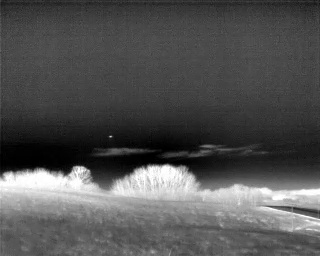AIRPLANE: (107, 133, 114, 140)
